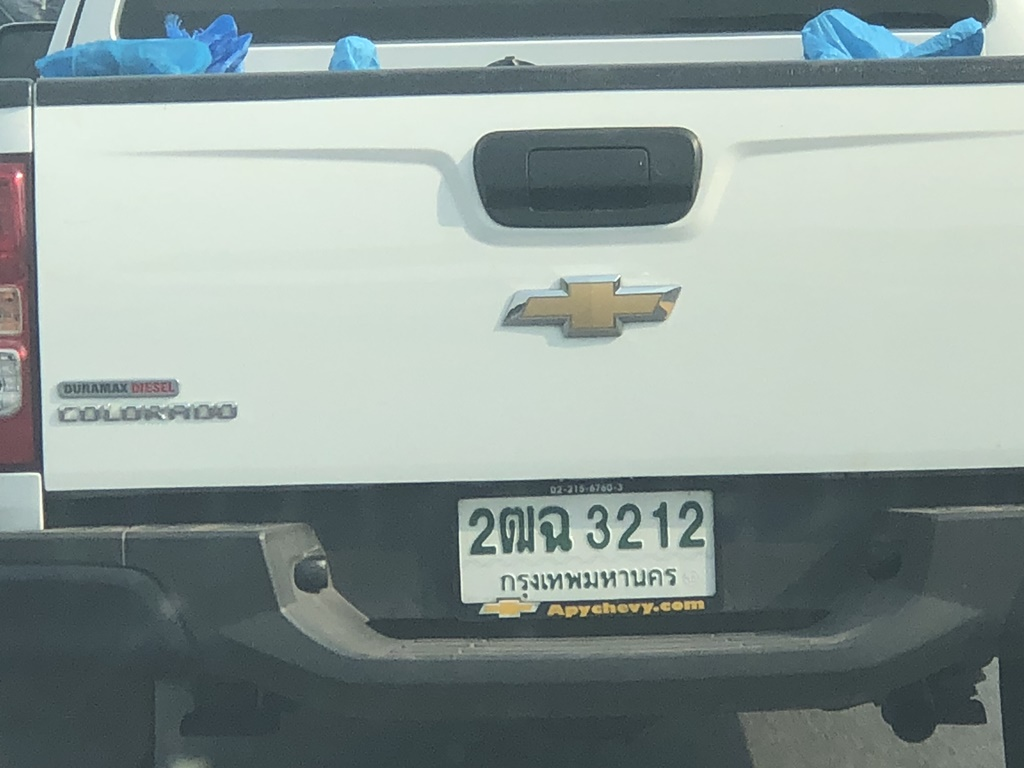one: (648, 494, 677, 558)
plate: (445, 482, 721, 616)
three: (580, 497, 612, 555)
